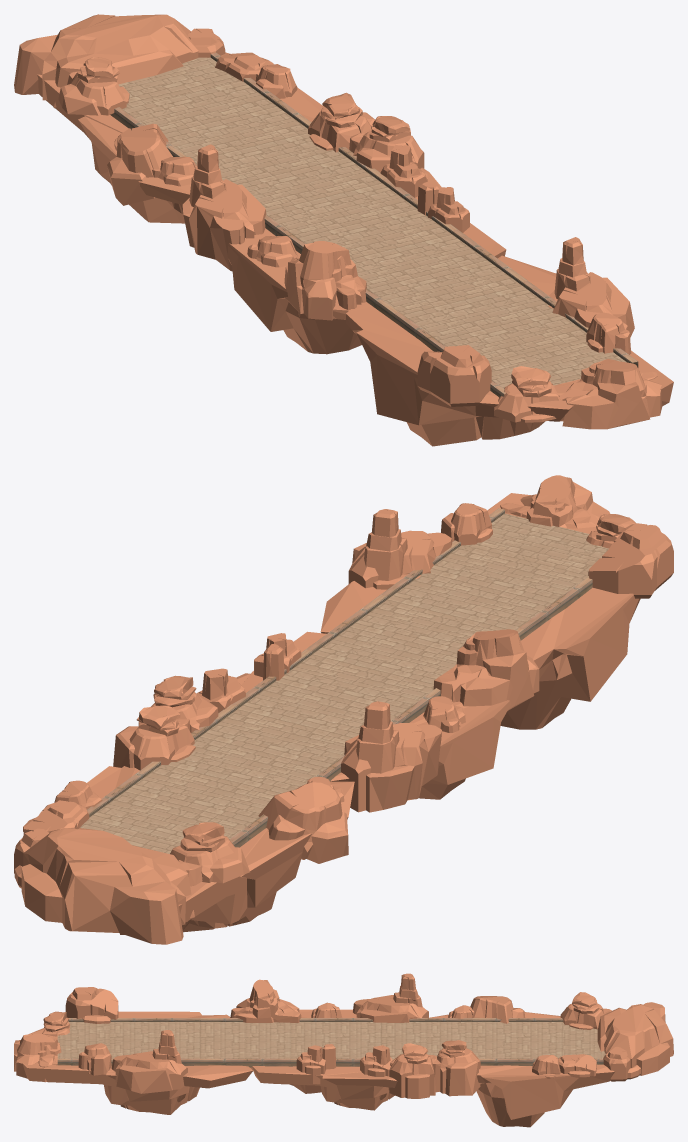
Rendered from road_5_block_C.fbx.
3 views of the same model, one above another, from view 1: azimuth 30°, elevation 25°; view 2: azimuth 150°, elevation 25°; view 3: azimuth 270°, elevation 25° (orthographic). The views are drawn at different scales.
Parts seen in each view (by area): view 1: road_5_block_C_standie, road_5_block_C; view 2: road_5_block_C_standie, road_5_block_C; view 3: road_5_block_C_standie, road_5_block_C.
Part boxes in pixels (x1,y1,x2,y2): road_5_block_C_standie: [14, 14, 673, 446]; road_5_block_C: [110, 52, 638, 397]; road_5_block_C_standie: [14, 475, 673, 944]; road_5_block_C: [80, 508, 608, 853]; road_5_block_C_standie: [14, 973, 673, 1127]; road_5_block_C: [57, 1018, 605, 1067].
Size of the model in its own units: 1791 by 1094 by 6339.
